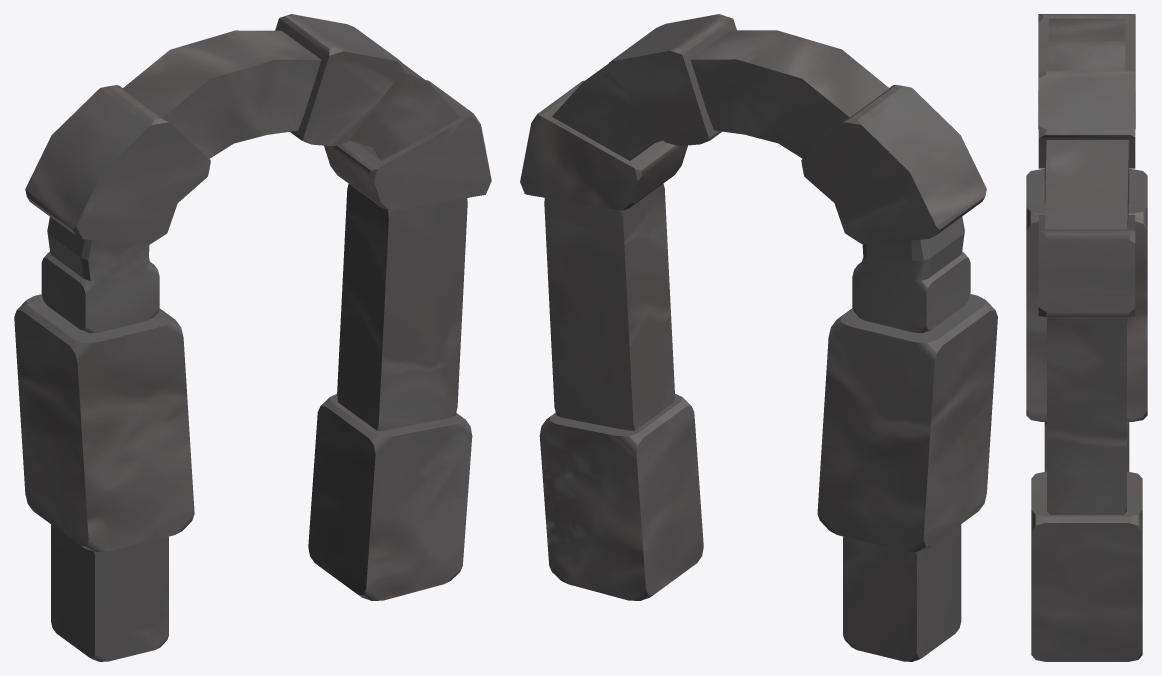
Rendered from portal.fbx.
The picture shows the model from 3 angles, left to right: view 1: azimuth 30°, elevation 25°; view 2: azimuth 150°, elevation 25°; view 3: azimuth 270°, elevation 25°; orthographic projection. The views are drawn at different scales.
Parts seen in each view (by area): view 1: portal; view 2: portal; view 3: portal.
Boxes of the visible parts, x1,y1,x2,y2 form: portal: (14,14,491,661); portal: (520,14,997,661); portal: (1026,14,1147,661).
Size of the model in its own units: 1.97 by 2.5 by 0.5129.
Materials: 1 (1 with a texture image).
